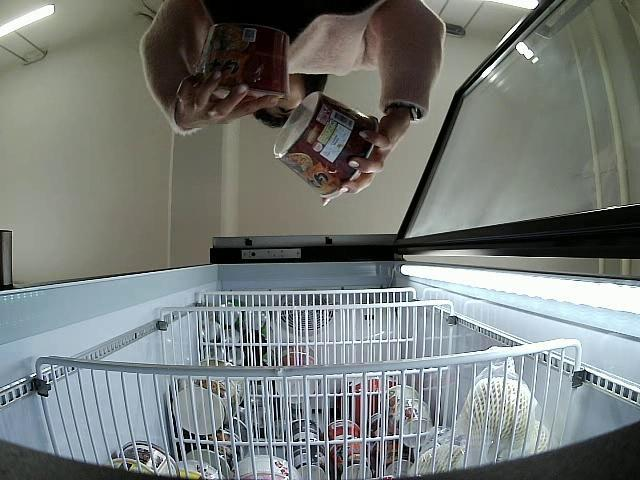05_nuguri_L: (272, 90, 380, 199), (194, 21, 292, 100)
